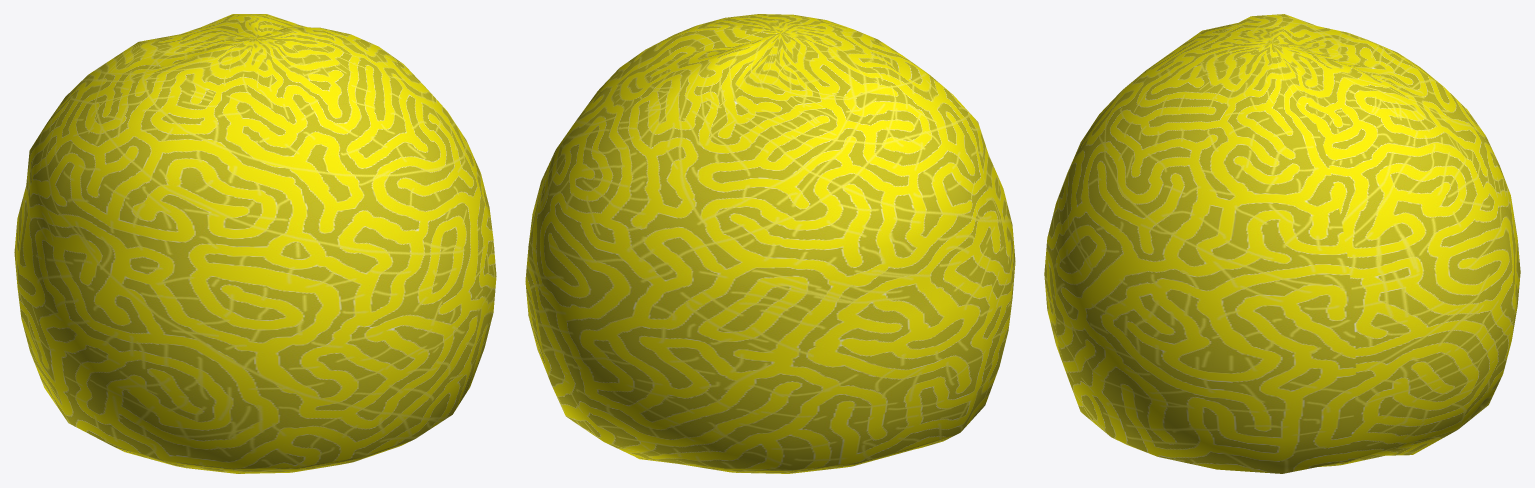
The model's file is brain_coral.fbx.
3 views of the same model, side by side, from view 1: azimuth 30°, elevation 25°; view 2: azimuth 150°, elevation 25°; view 3: azimuth 270°, elevation 25° (orthographic). The views are drawn at different scales.
Visible parts, largest first — view 1: pSphere1; view 2: pSphere1; view 3: pSphere1.
Boxes of the visible parts, box(x1,y1,x2,y2) form: pSphere1: box(14, 14, 496, 473); pSphere1: box(525, 14, 1015, 473); pSphere1: box(1044, 14, 1520, 473).
Bounding box in the file's own units: 0.7601 × 0.6988 × 0.7601.
1 material, 1 textured.
